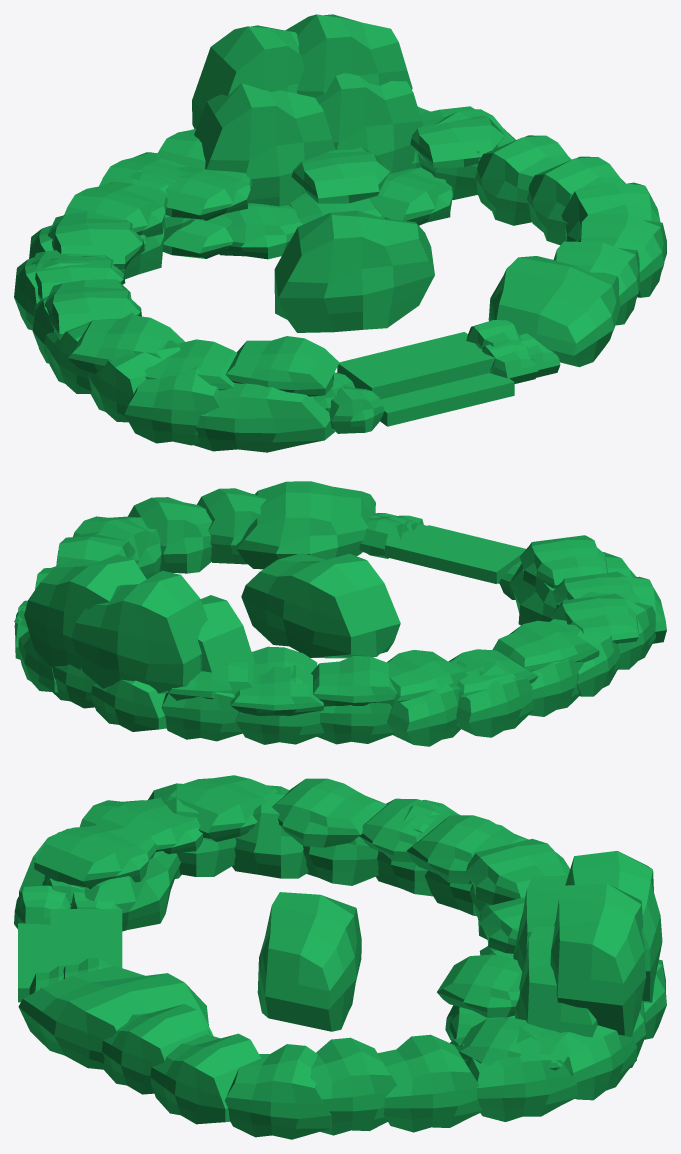
Rendered from Fuente.fbx.
3 views of the same model, one above another, from view 1: azimuth 30°, elevation 25°; view 2: azimuth 150°, elevation 25°; view 3: azimuth 270°, elevation 25° (orthographic). The views are drawn at different scales.
Parts seen in each view (by area): view 1: Box035; view 2: Box035; view 3: Box035.
Part boxes in pixels (bbox=[...]): Box035: bbox=[14, 14, 666, 452]; Box035: bbox=[14, 481, 666, 746]; Box035: bbox=[14, 775, 666, 1139].
Size of the model in its own units: 601 by 160 by 533.
